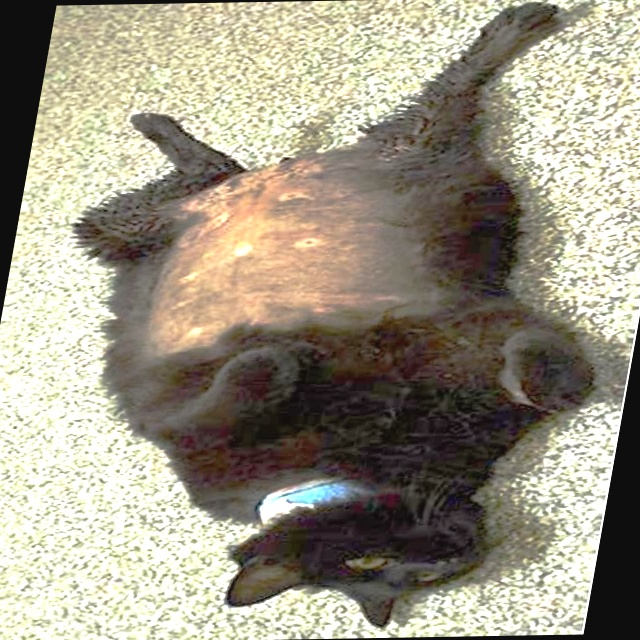hairloss: (142, 156, 402, 360)
